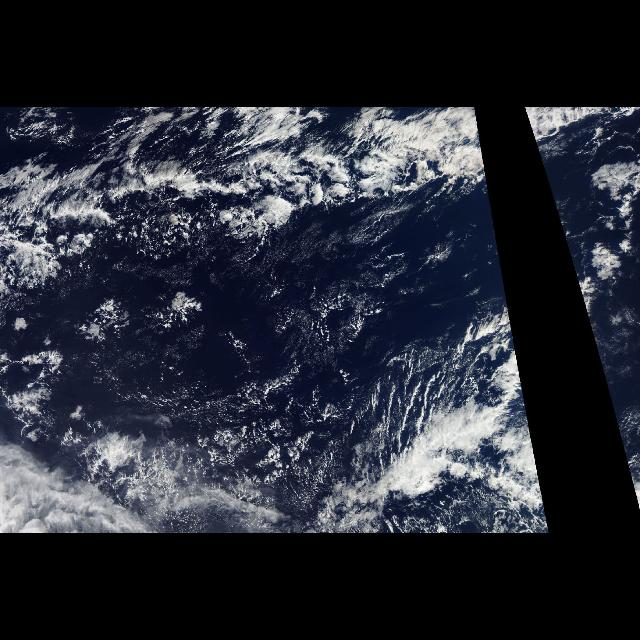Fish: (328, 324, 534, 514)
Sugar: (39, 244, 515, 418)
